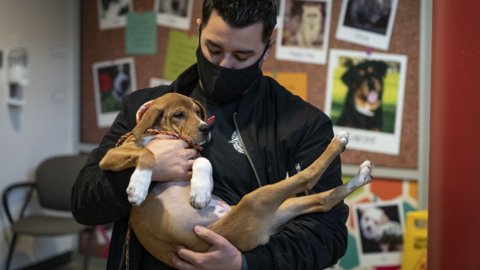pet: (138, 104, 246, 254)
